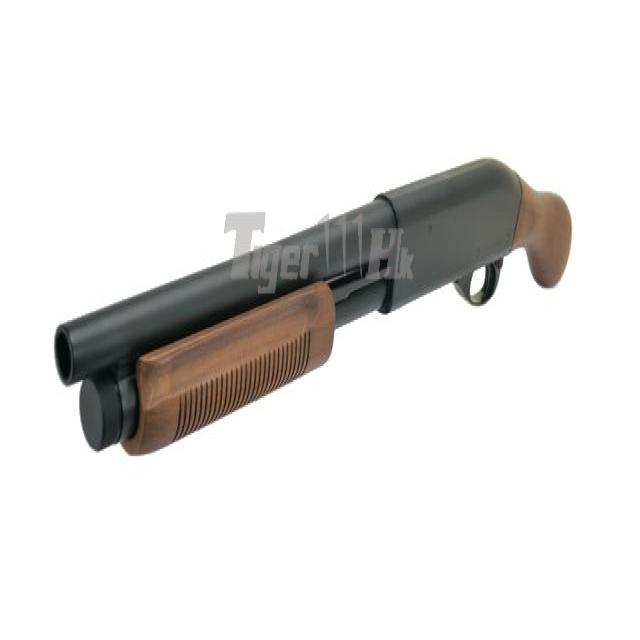ShotGun: (54, 157, 572, 456)
